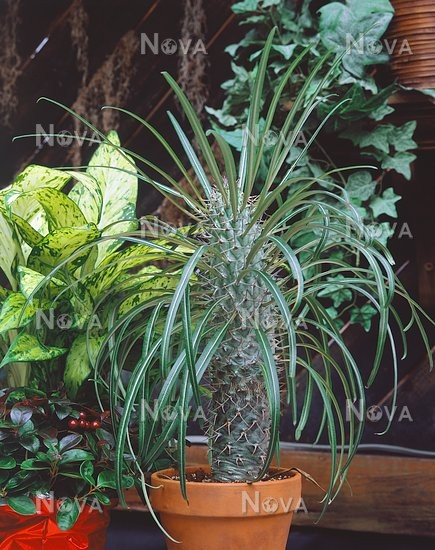Pachypodium geayi: (149, 109, 341, 476)
